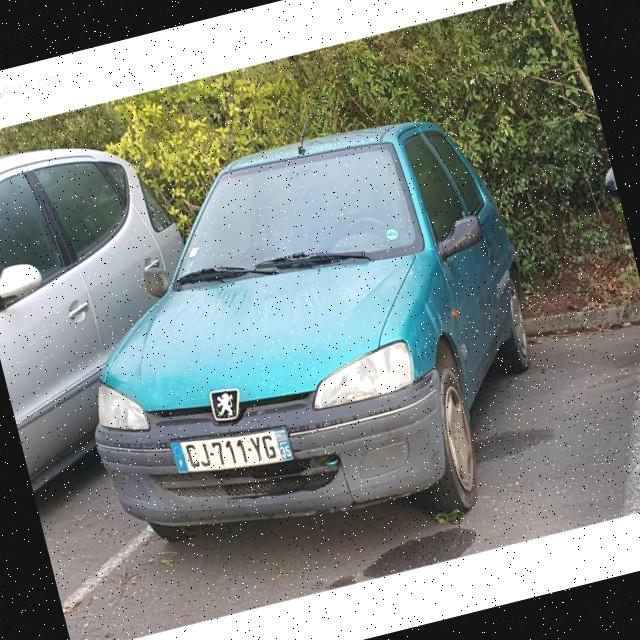EU: (164, 412, 306, 494)
France: (158, 434, 192, 484)
